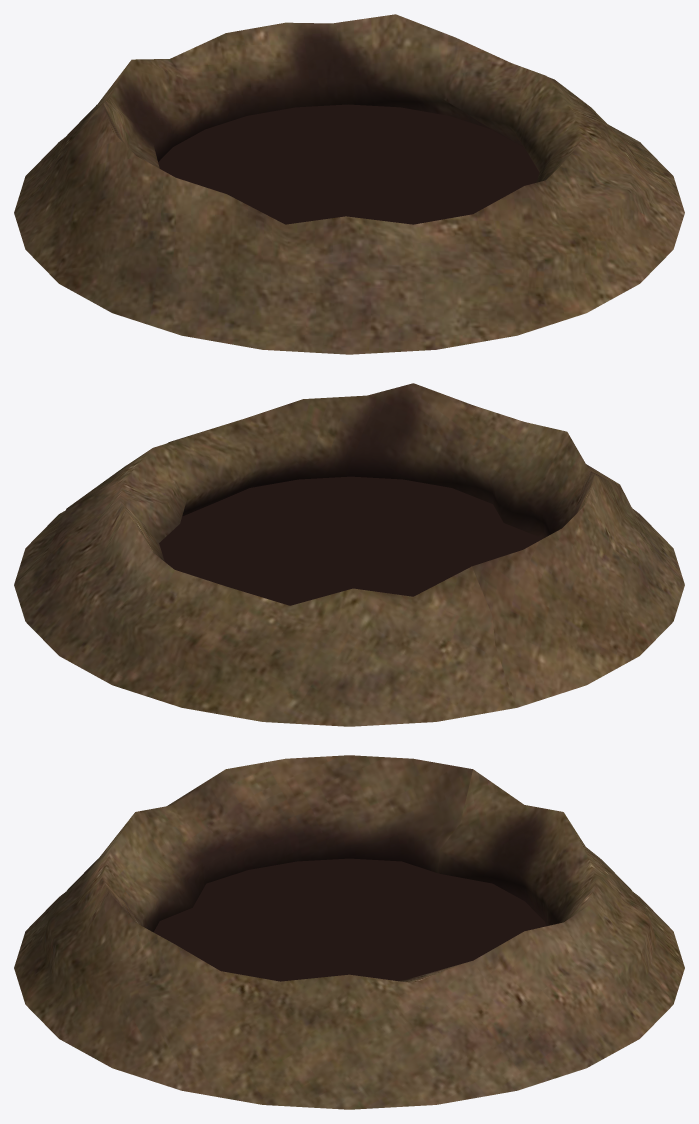
The model's file is MierenGrotIngangFBX.FBX.
The picture shows the model from 3 angles, top to bottom: view 1: azimuth 30°, elevation 25°; view 2: azimuth 150°, elevation 25°; view 3: azimuth 270°, elevation 25°; orthographic projection.
Visible parts, largest first — view 1: Torus001, Cylinder001; view 2: Torus001, Cylinder001; view 3: Torus001, Cylinder001.
Boxes of the visible parts, left/top/right/bottom form: Torus001: left=14, top=14, right=684, bottom=354; Cylinder001: left=158, top=104, right=539, bottom=224; Torus001: left=14, top=383, right=684, bottom=726; Cylinder001: left=159, top=476, right=542, bottom=605; Torus001: left=14, top=755, right=684, bottom=1109; Cylinder001: left=153, top=858, right=545, bottom=981.
Bounding box in the file's own units: 116 × 20.71 × 116.
1 material, 1 textured.
